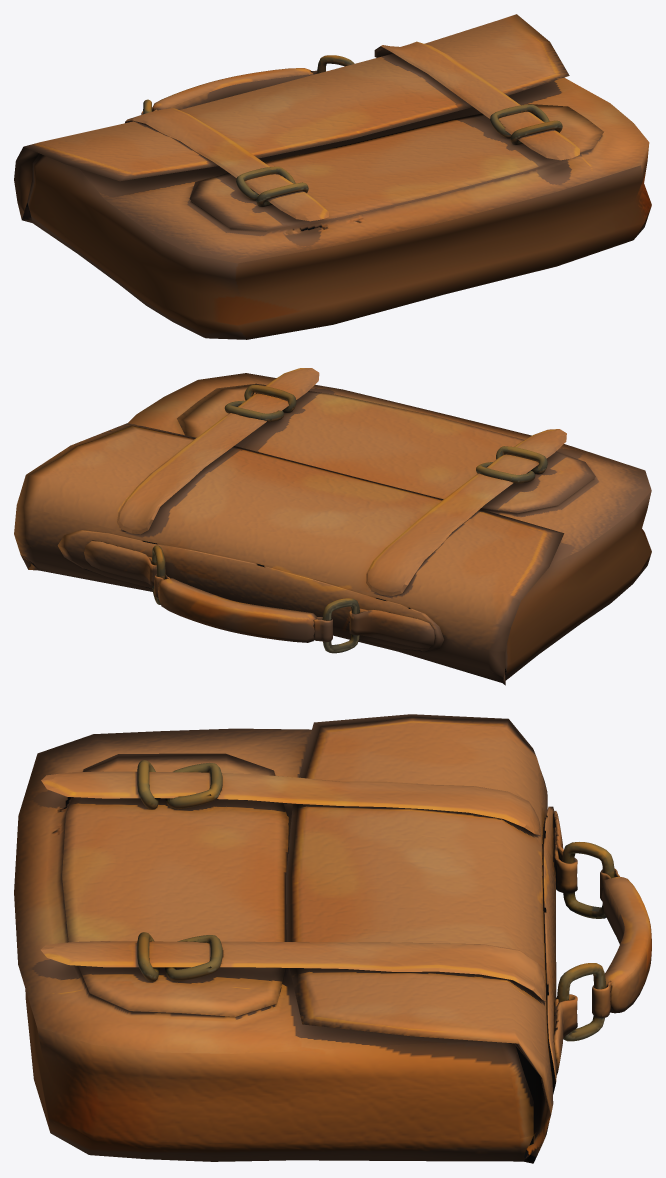
3 renders of one model, top to bottom at view 1: azimuth 30°, elevation 25°; view 2: azimuth 150°, elevation 25°; view 3: azimuth 270°, elevation 25°, orthographic. The views are drawn at different scales.
Visible parts, largest first — view 1: Plane.002; view 2: Plane.002; view 3: Plane.002.
Boxes of the visible parts, x1,y1,x2,y2 form: Plane.002: (14,14,651,339); Plane.002: (14,368,651,685); Plane.002: (14,714,651,1163).
Size of the model in its own units: 707 by 152 by 565.
Materials: 1 (1 with a texture image).
